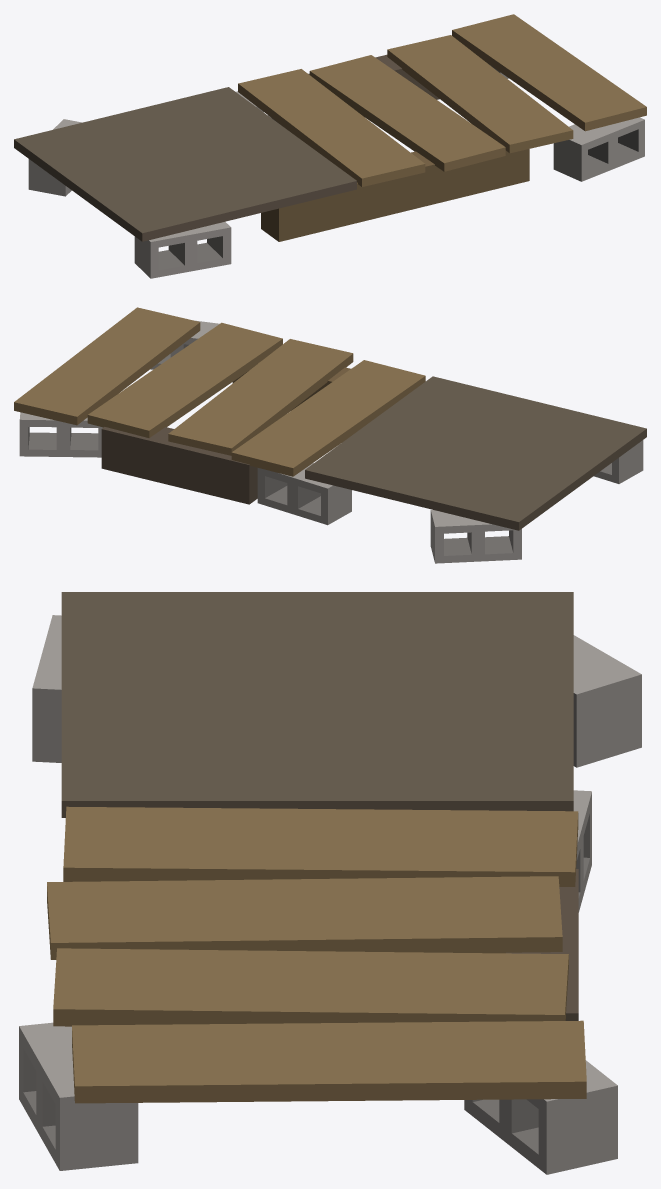
The model's file is AI_Prop_Walkway_03.fbx.
3 renders of one model, top to bottom at view 1: azimuth 30°, elevation 25°; view 2: azimuth 150°, elevation 25°; view 3: azimuth 270°, elevation 25°, orthographic. The views are drawn at different scales.
Visible parts, largest first — view 1: AI_Prop_Walkway_03; view 2: AI_Prop_Walkway_03; view 3: AI_Prop_Walkway_03.
Boxes of the visible parts, x1,y1,x2,y2 form: AI_Prop_Walkway_03: [14, 14, 646, 278]; AI_Prop_Walkway_03: [14, 307, 646, 563]; AI_Prop_Walkway_03: [19, 592, 641, 1174].
Bounding box in the file's own units: 4.99 × 0.4433 × 2.66.
